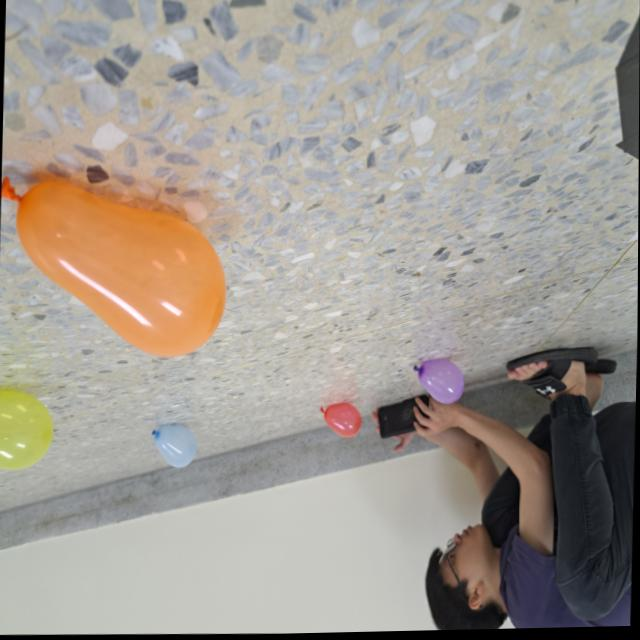other: (0, 166, 229, 362), (0, 387, 55, 472), (412, 359, 467, 406), (151, 424, 197, 470)
red: (320, 402, 363, 440)
